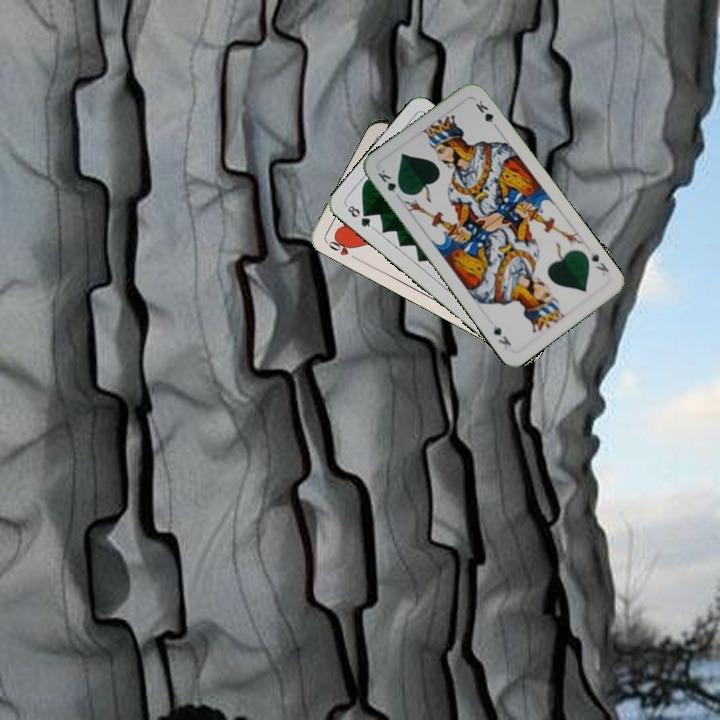G8: (342, 201, 376, 231)
GK: (373, 165, 407, 201), (587, 248, 612, 279)
HO: (323, 233, 360, 262)
